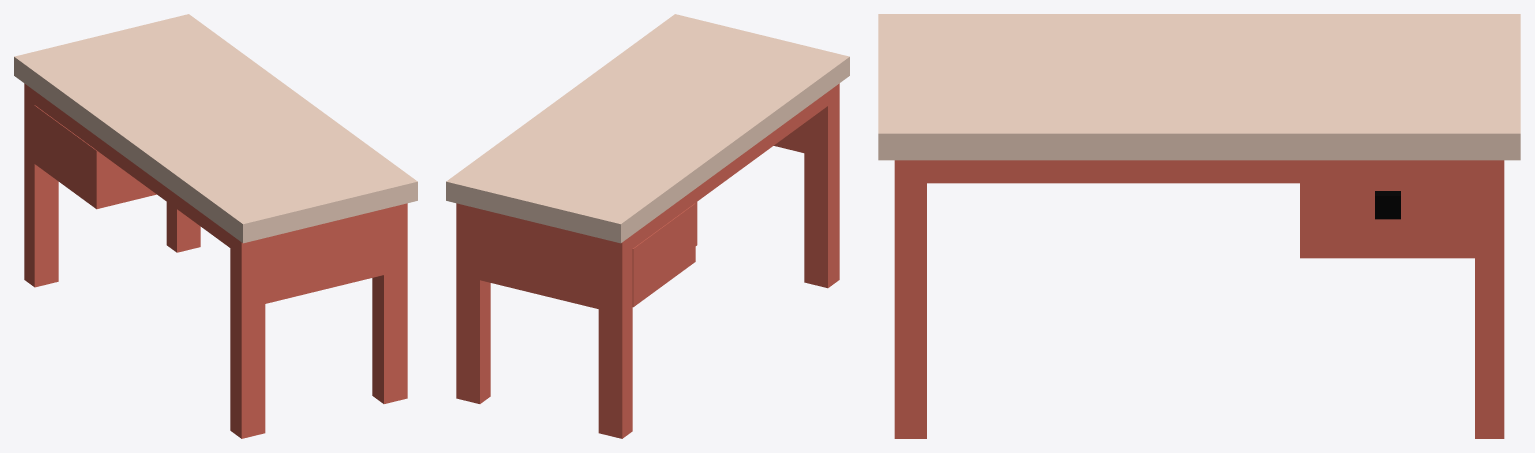
Rendered from Desk3.glb.
3 renders of one model, left to right at view 1: azimuth 30°, elevation 25°; view 2: azimuth 150°, elevation 25°; view 3: azimuth 270°, elevation 25°, orthographic. The views are drawn at different scales.
Parts seen in each view (by area): view 1: Desk4; view 2: Desk4; view 3: Desk4.
Boxes of the visible parts, x1,y1,x2,y2 form: Desk4: (14, 14, 417, 438); Desk4: (446, 14, 849, 438); Desk4: (878, 14, 1520, 438).
Bounding box in the file's own units: 0.4369 × 0.5255 × 0.9913.
Materials: 1 (1 with a texture image).
